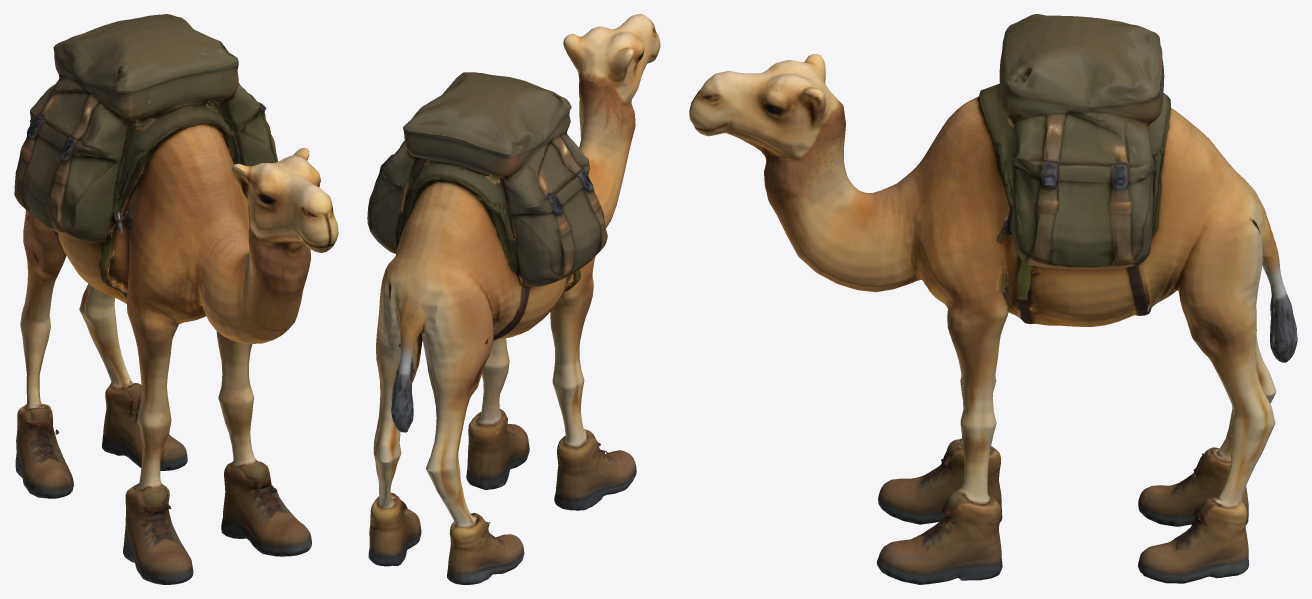
File: camel.glb
3 views of the same model, side by side, from view 1: azimuth 30°, elevation 25°; view 2: azimuth 150°, elevation 25°; view 3: azimuth 270°, elevation 25° (orthographic). The views are drawn at different scales.
Parts seen in each view (by area): view 1: output; view 2: output; view 3: output.
Part boxes in pixels (x1,y1,x2,y2): output: (14, 14, 338, 584); output: (367, 14, 660, 584); output: (689, 14, 1297, 584).
Bounding box in the file's own units: 0.874 × 1.8 × 1.91.
1 material, 1 textured.
